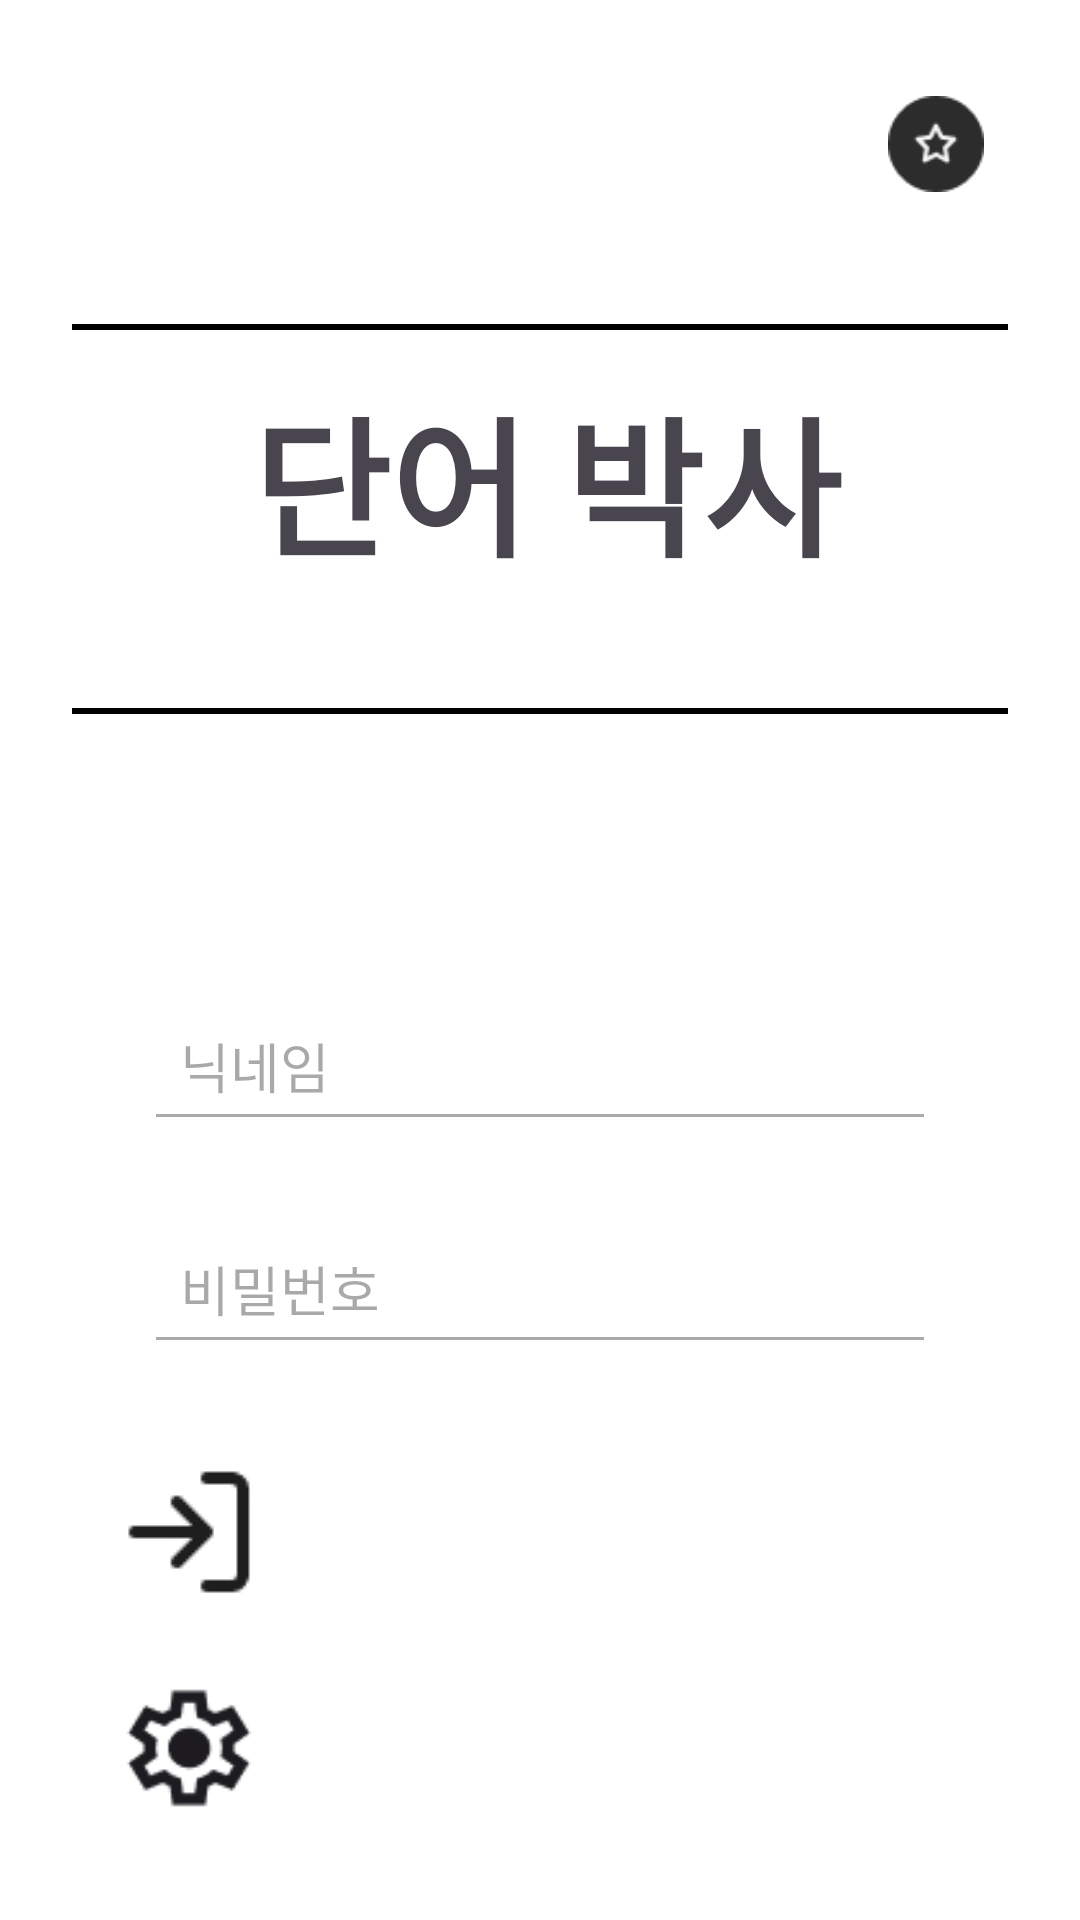

Point at icon controls on the screen. Image size 1080 × 1920, points as (x=x, y=y).
로그인: (x=189, y=1532)
설정: (x=189, y=1748)
즐겨찾기: (x=936, y=144)
